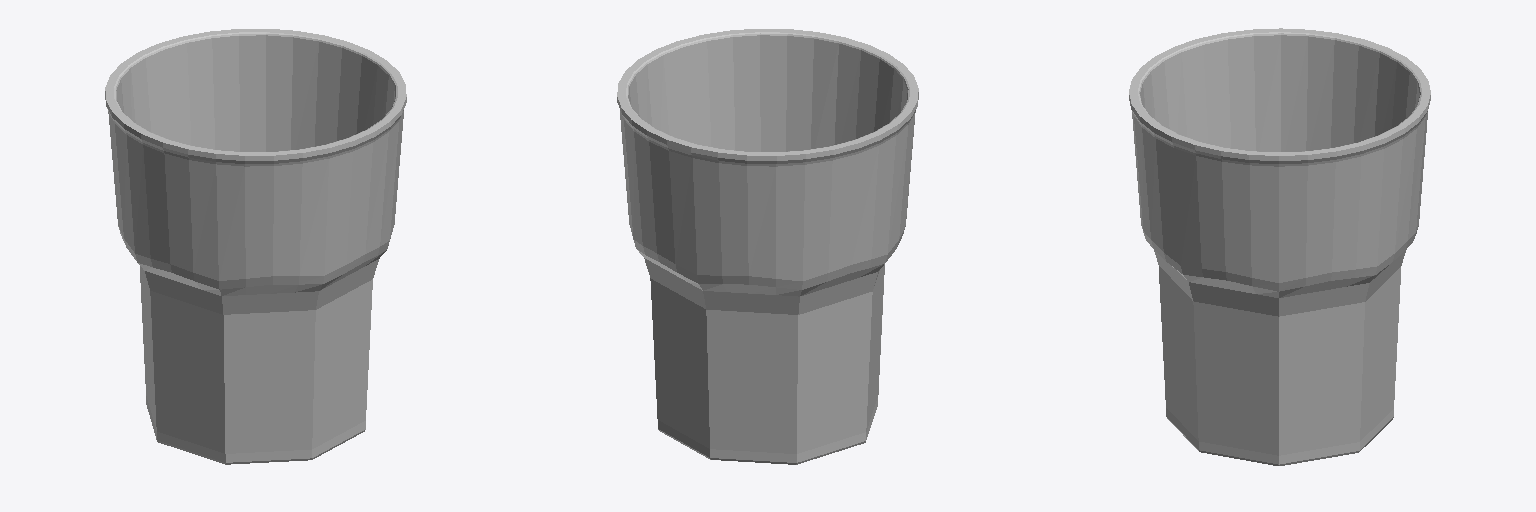
Rendered from glass.obj.
3 renders of one model, left to right at view 1: azimuth 30°, elevation 25°; view 2: azimuth 150°, elevation 25°; view 3: azimuth 270°, elevation 25°, orthographic.
Visible parts, largest first — view 1: glass; view 2: glass; view 3: glass.
Boxes of the visible parts, <box> form: glass: <box>105,29,406,464</box>; glass: <box>617,29,918,464</box>; glass: <box>1129,28,1430,465</box>.
Bounding box in the file's own units: 1.25 × 1.5 × 1.25.